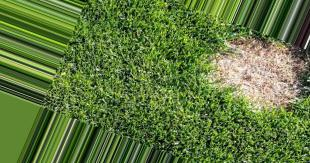patch: (224, 42, 294, 105)
